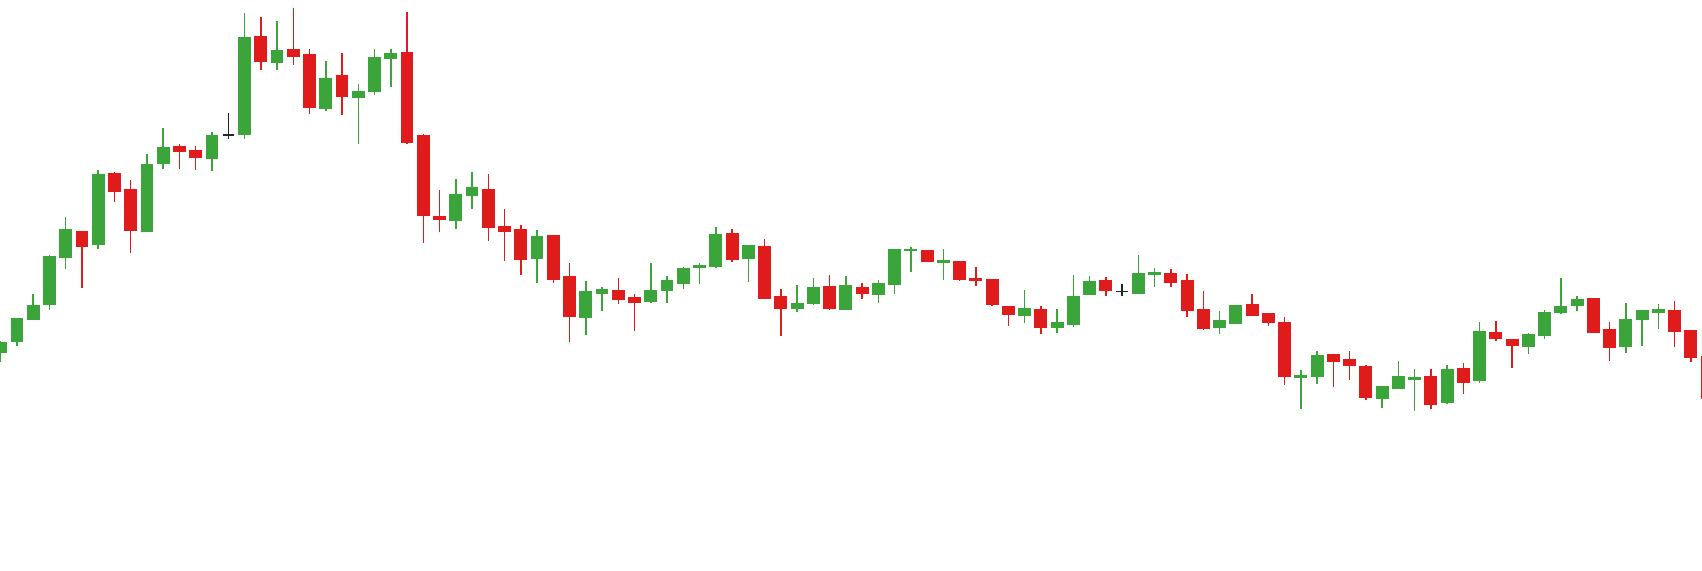buy: (624, 272, 787, 340)
sell: (285, 3, 414, 98)
